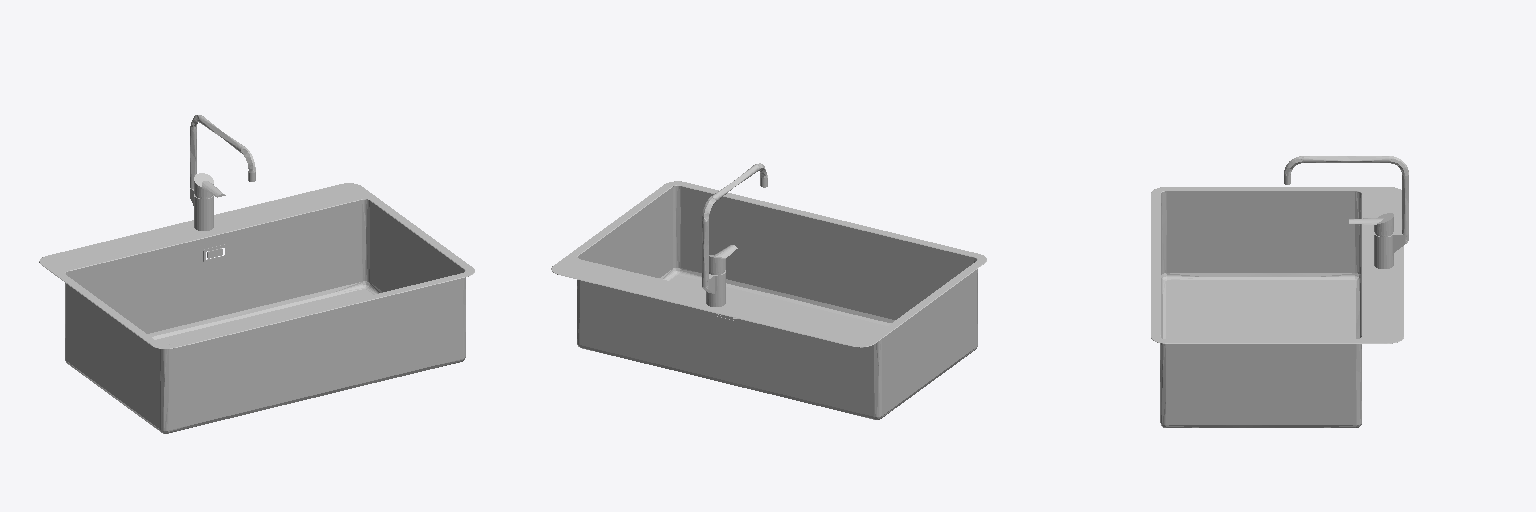
Rendered from Max MXT-70.obj.
3 views of the same model, side by side, from view 1: azimuth 30°, elevation 25°; view 2: azimuth 150°, elevation 25°; view 3: azimuth 270°, elevation 25° (orthographic).
Visible parts, largest first — view 1: Stainless_Steel; view 2: Stainless_Steel; view 3: Stainless_Steel.
Part boxes in pixels (x1,y1,x2,y2): Stainless_Steel: (39, 115, 474, 433); Stainless_Steel: (551, 163, 986, 419); Stainless_Steel: (1151, 156, 1408, 427).
Bounding box in the file's own units: 2.43 × 1.44 × 1.69.